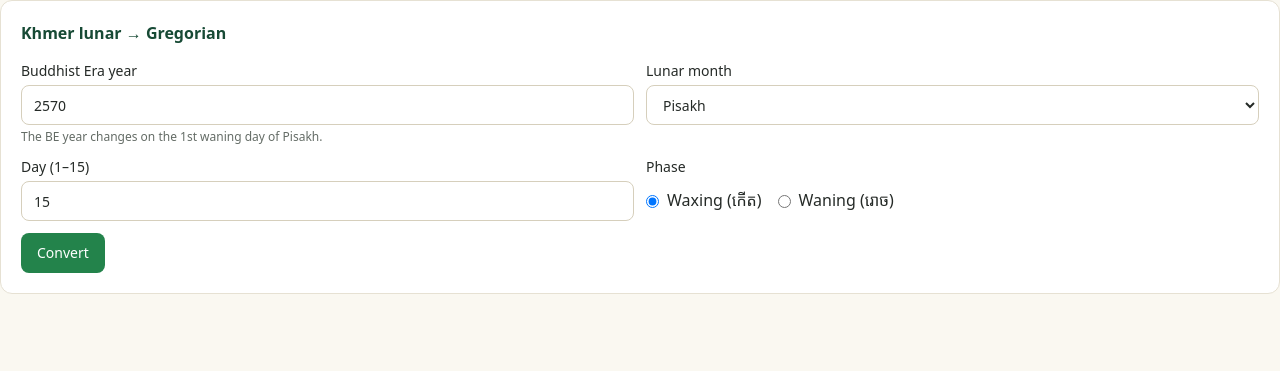
date converter › shows the API's message for an invalid lunar date
The image size is (1280, 371).
Select "Asadh" in the dropdown labelled "Lunar month". click: (952, 105)
box: [646,85,1259,125]
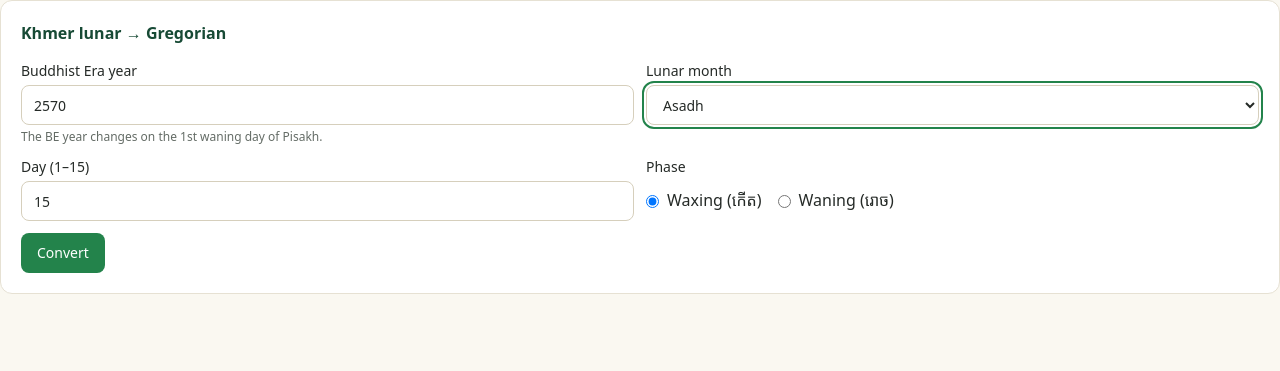
Click the button "Convert". click: (63, 253)
box: [21,233,105,273]
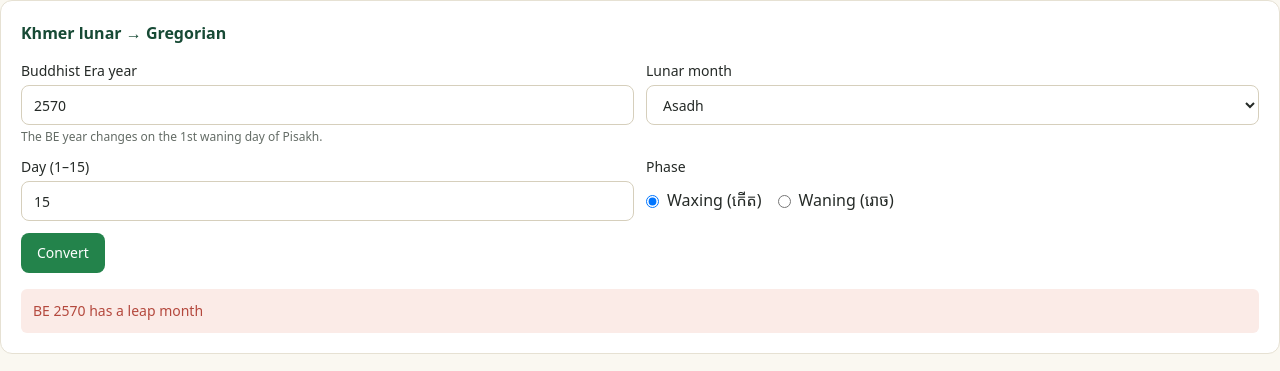
Now the message reads "BE 2570 has a leap month", box [33,301,203,320]
